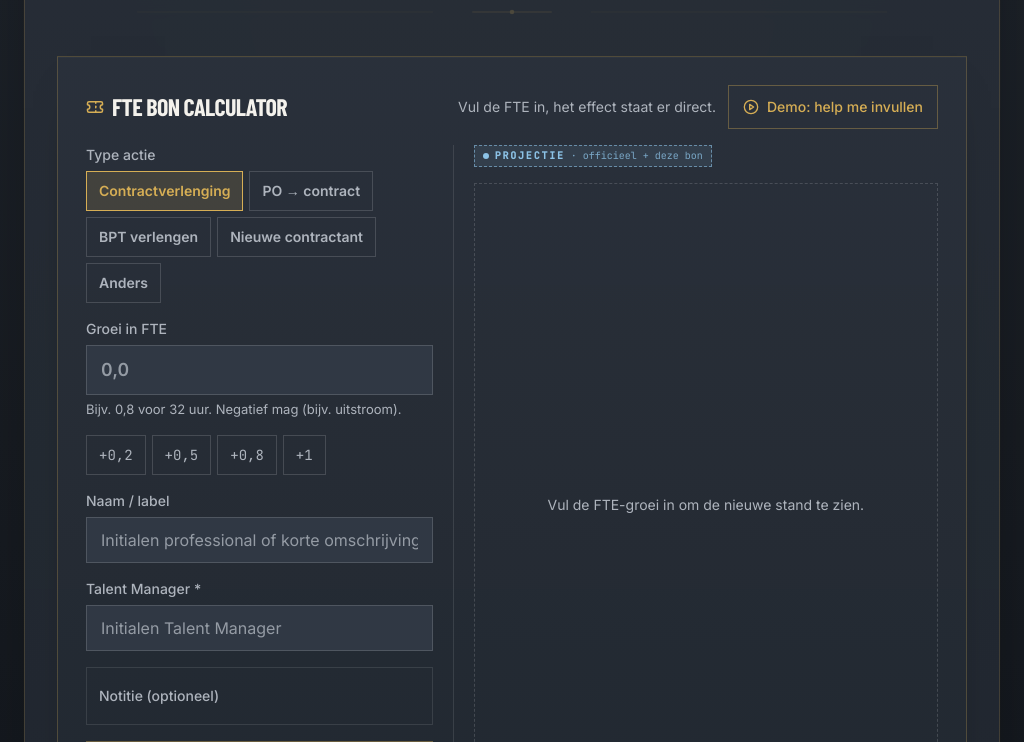
it: NetFtePage › the Talent Manager is required: a bon without one cannot be saved
(page scrolled)
Type "1" into the field labelled "Groei in FTE" at x=259, y=370, box [86,346,433,396]
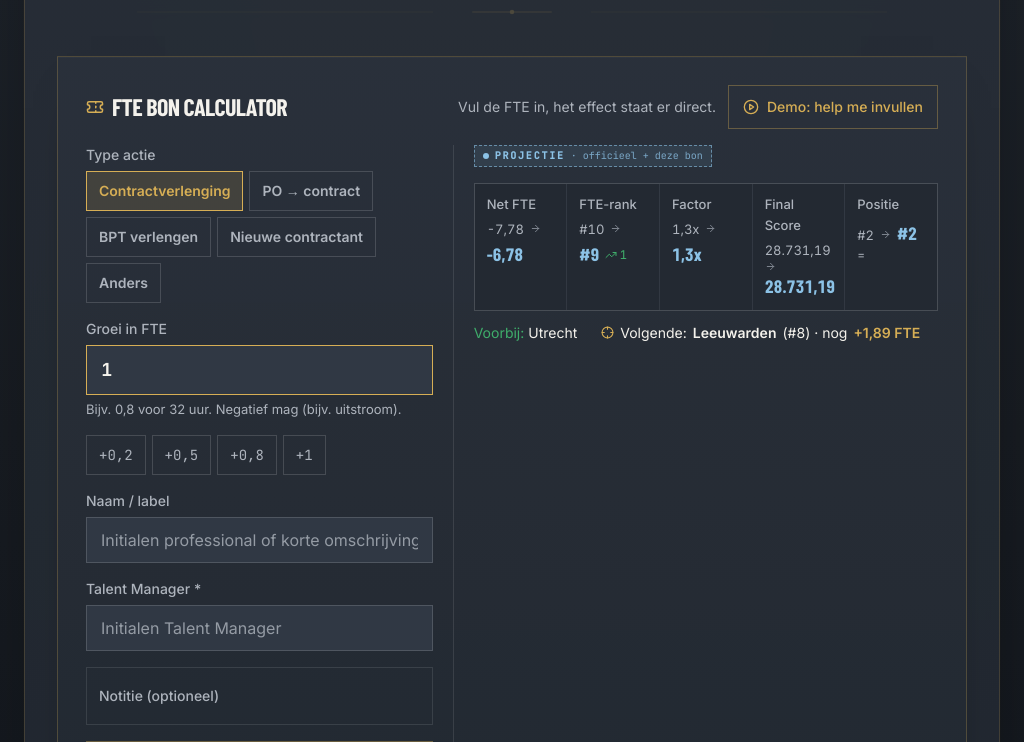
Type "PvH" into the field labelled "Naam / label" at x=259, y=540, box [86,517,433,563]
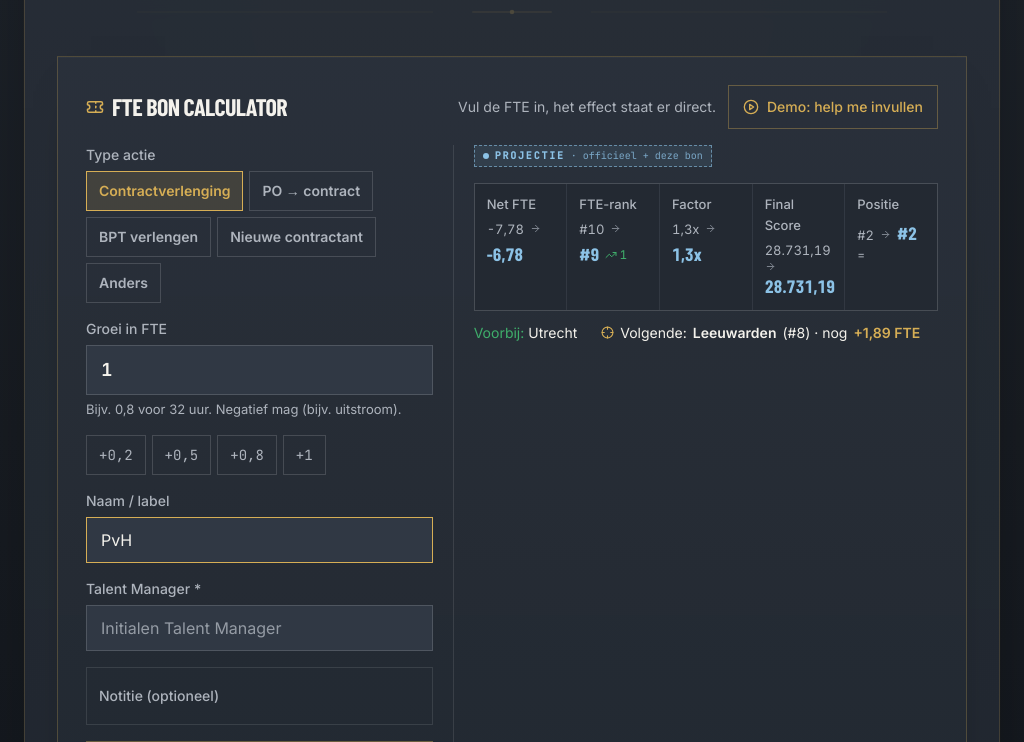
Type "RP" into the field labelled "Talent Manager *" at x=259, y=628, box [86,605,433,651]
(page scrolled)
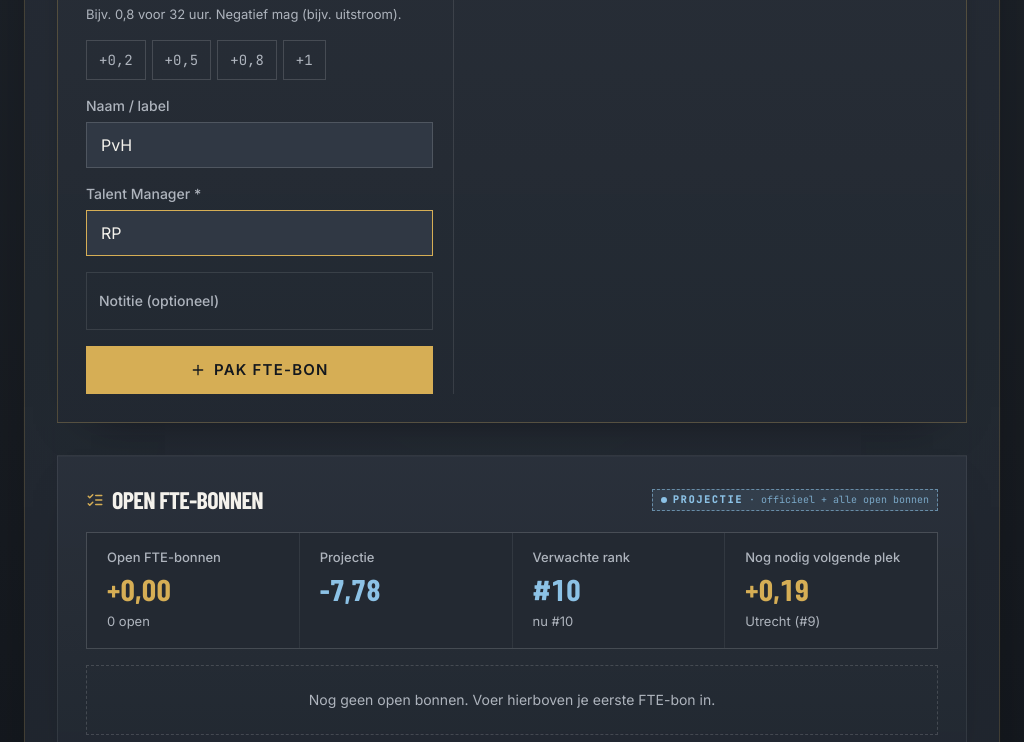
Expected: the button "Pak FTE-bon" is enabled, [86,346,433,394]
